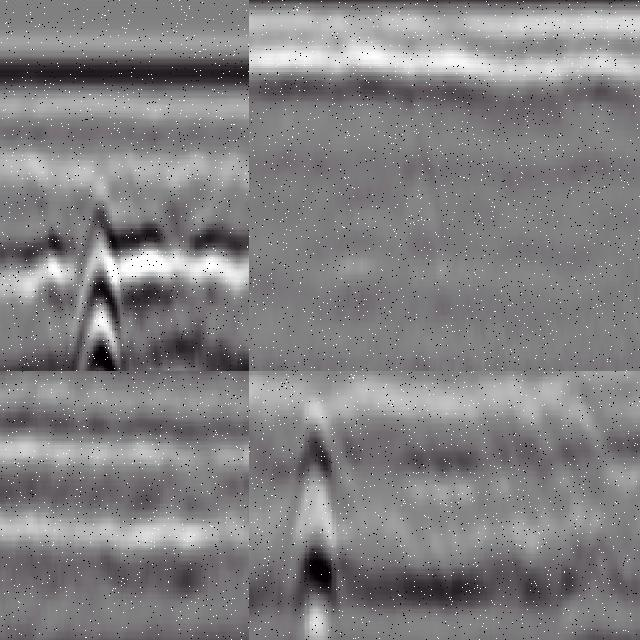crack: (290, 383, 339, 640)
loose: (34, 167, 250, 372)
